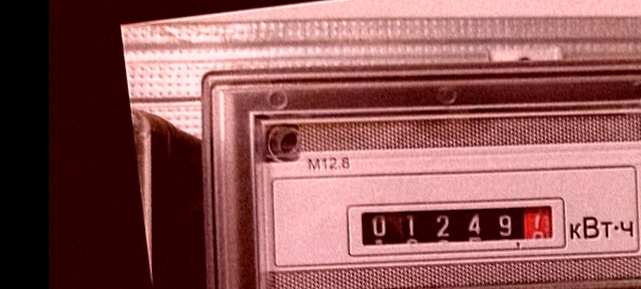0: (368, 211, 388, 239)
1: (400, 211, 417, 238)
2: (431, 213, 451, 241)
4: (464, 210, 483, 237)
7: (527, 204, 545, 231)
9: (493, 211, 513, 239)
screen: (340, 178, 571, 277)
